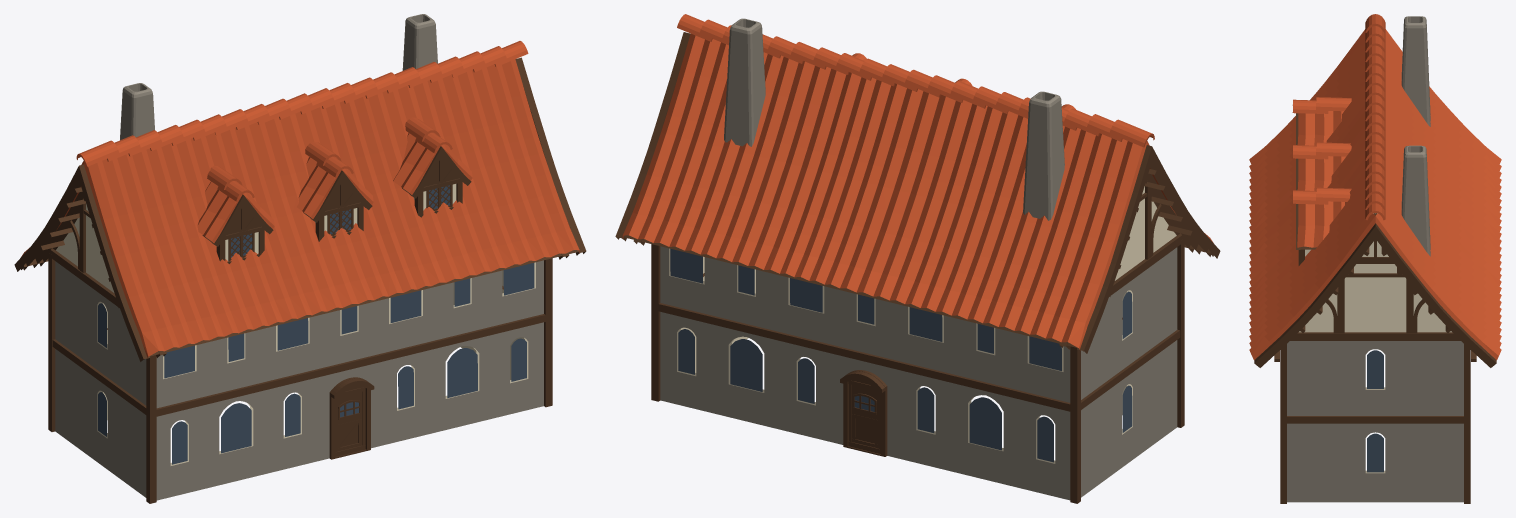
File: college.obj
3 views of the same model, side by side, from view 1: azimuth 30°, elevation 25°; view 2: azimuth 150°, elevation 25°; view 3: azimuth 270°, elevation 25° (orthographic). The views are drawn at different scales.
Bounding box in the file's own units: 15.71 × 11.8 × 8.25.
